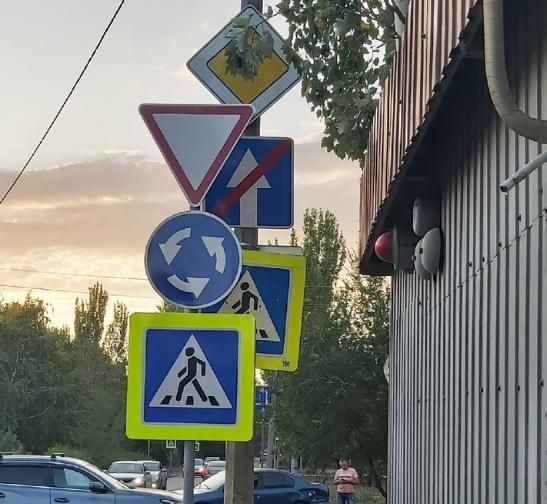obstructed_road_sign: (187, 5, 310, 123), (201, 249, 306, 371), (203, 135, 294, 225)
road_sign: (127, 315, 256, 442), (138, 104, 255, 205), (143, 209, 243, 309)
